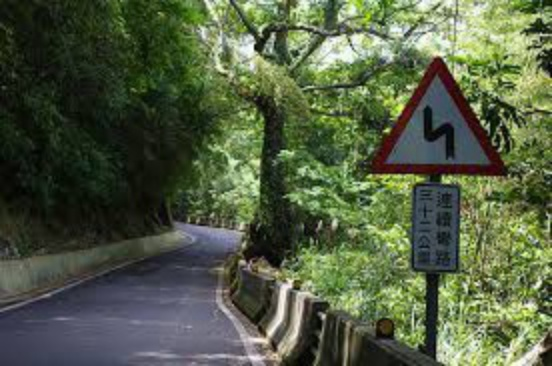Double_bend_left: (371, 57, 510, 177)
